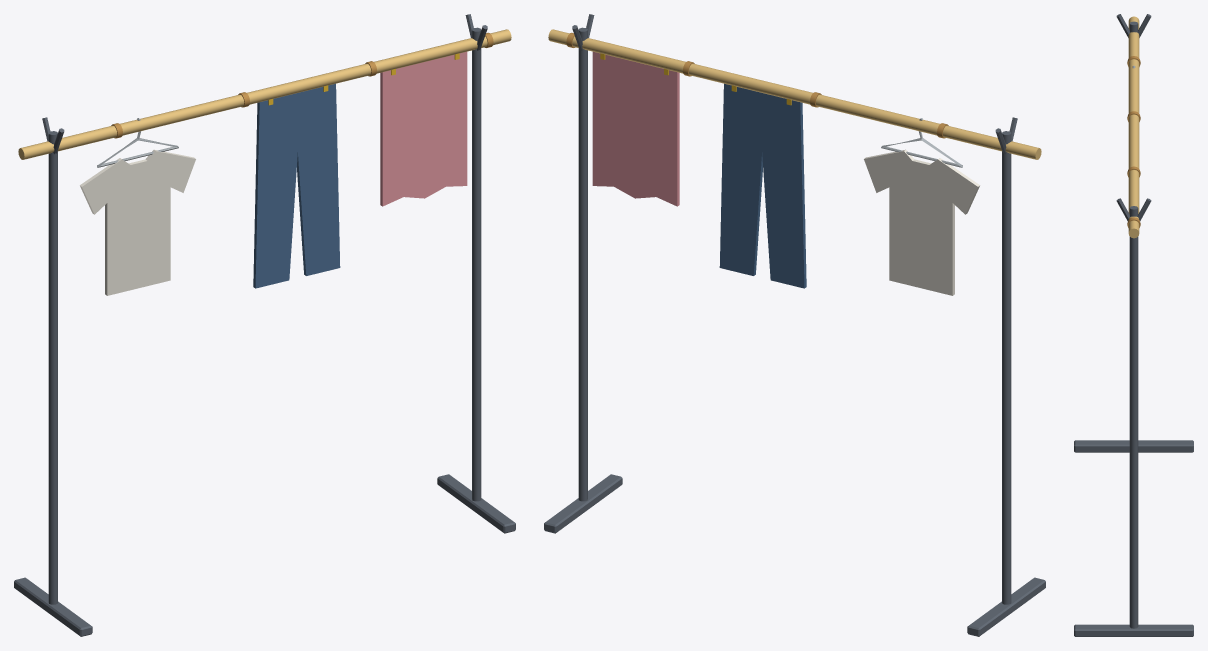
Rendered from laundry_pole.glb.
The picture shows the model from 3 angles, left to right: view 1: azimuth 30°, elevation 25°; view 2: azimuth 150°, elevation 25°; view 3: azimuth 270°, elevation 25°; orthographic projection. The views are drawn at different scales.
Visible parts, largest first — view 1: laundry_pole; view 2: laundry_pole; view 3: laundry_pole.
Boxes of the visible parts, left/top/right/bottom form: laundry_pole: left=14, top=14, right=515, bottom=636; laundry_pole: left=544, top=14, right=1045, bottom=636; laundry_pole: left=1074, top=14, right=1193, bottom=636.
Size of the model in its own units: 2.3 by 2.2 by 0.55.
